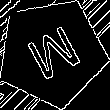M_SE: (20, 19, 84, 86)
